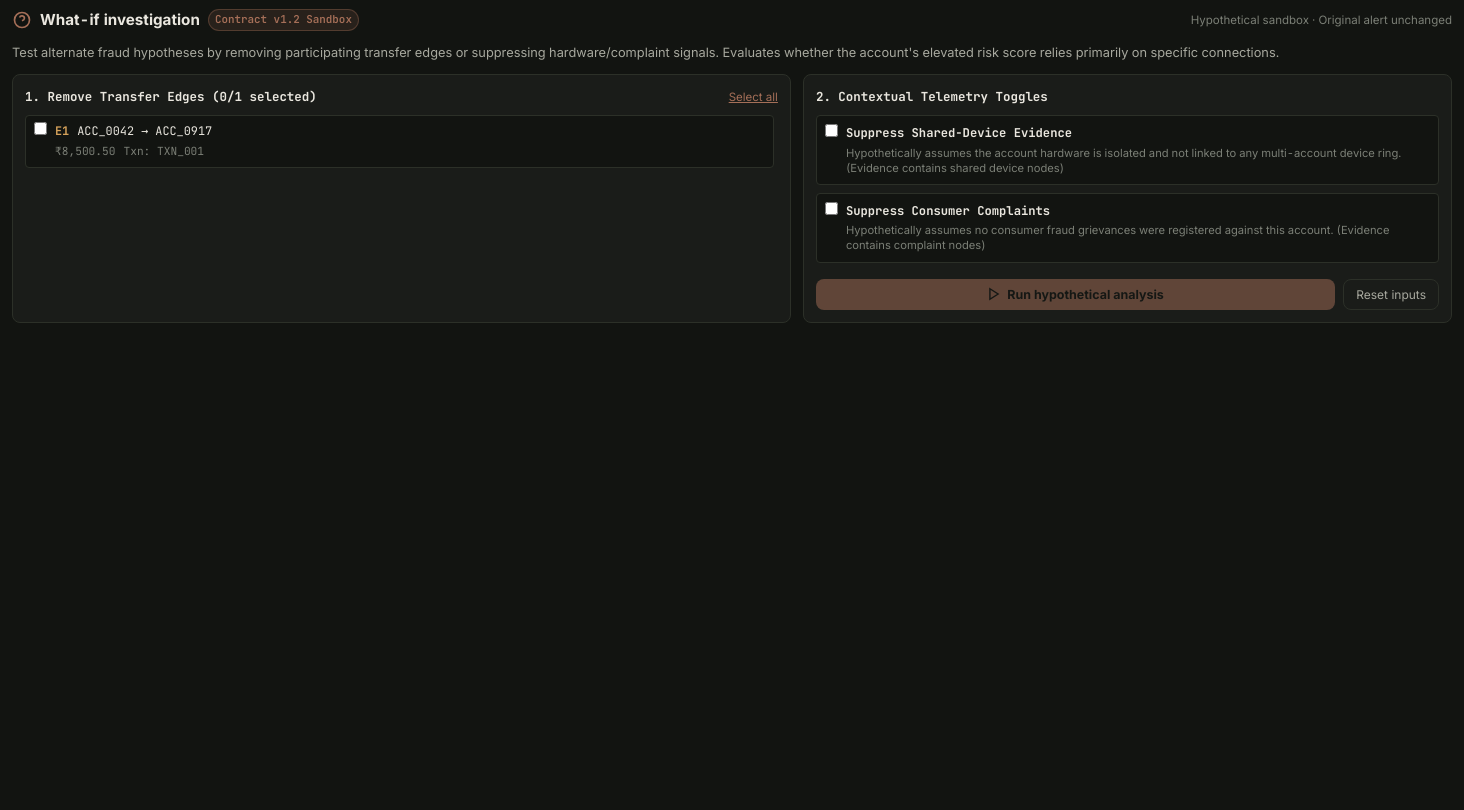
Scenario: WhatIfInvestigation Component › displays signed positive score delta when risk increases
Select complaint suppression
What coordinates should you click on to do the following:
click the checkbox with test id "toggle-suppress-complaints"
I would click on:
 (831, 208)
Its box is 825,202 -> 838,215.
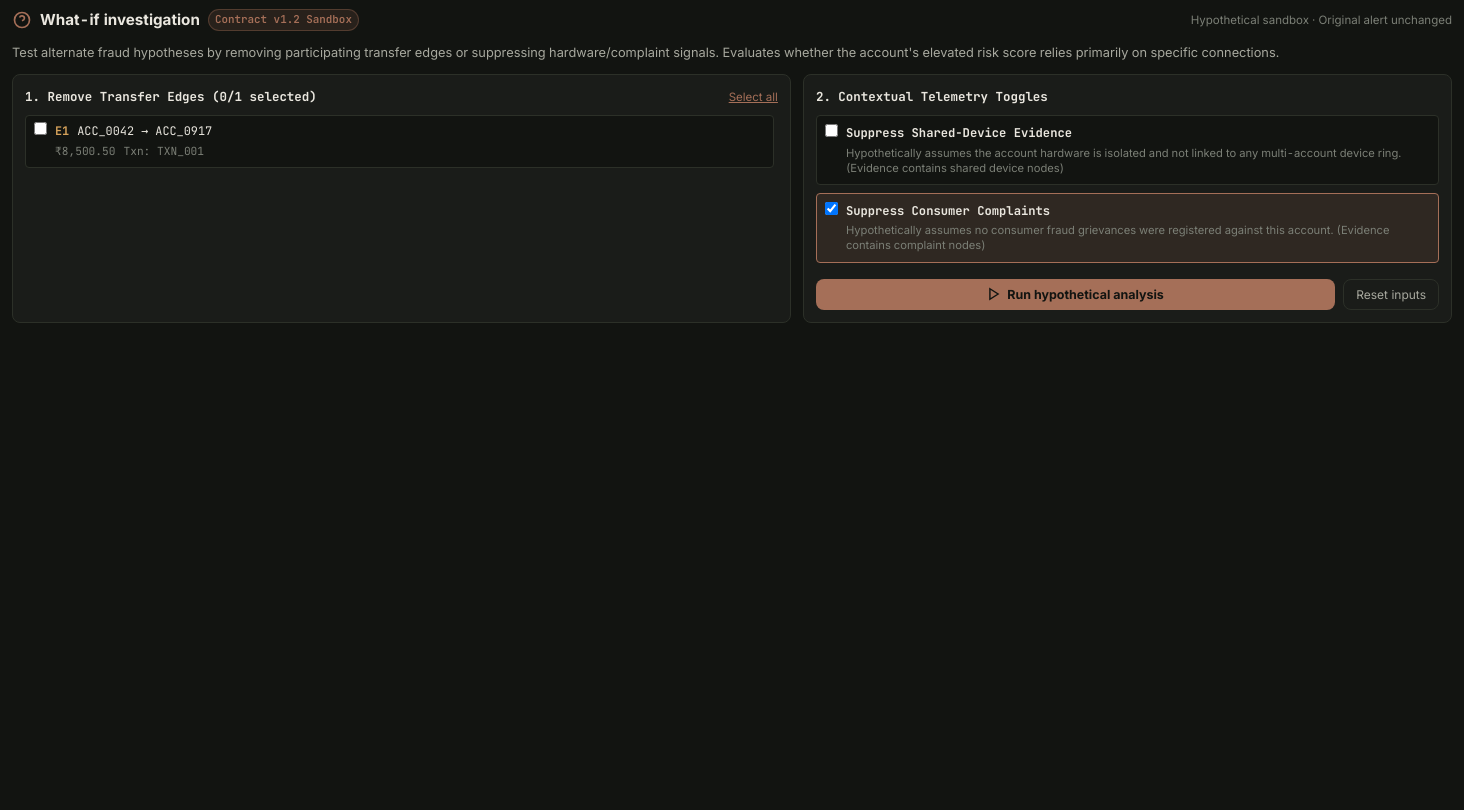
What coordinates should you click on to do the following:
click the button with test id "btn-run-whatif"
I would click on:
 (1076, 294)
Its box is 816,278 -> 1335,310.
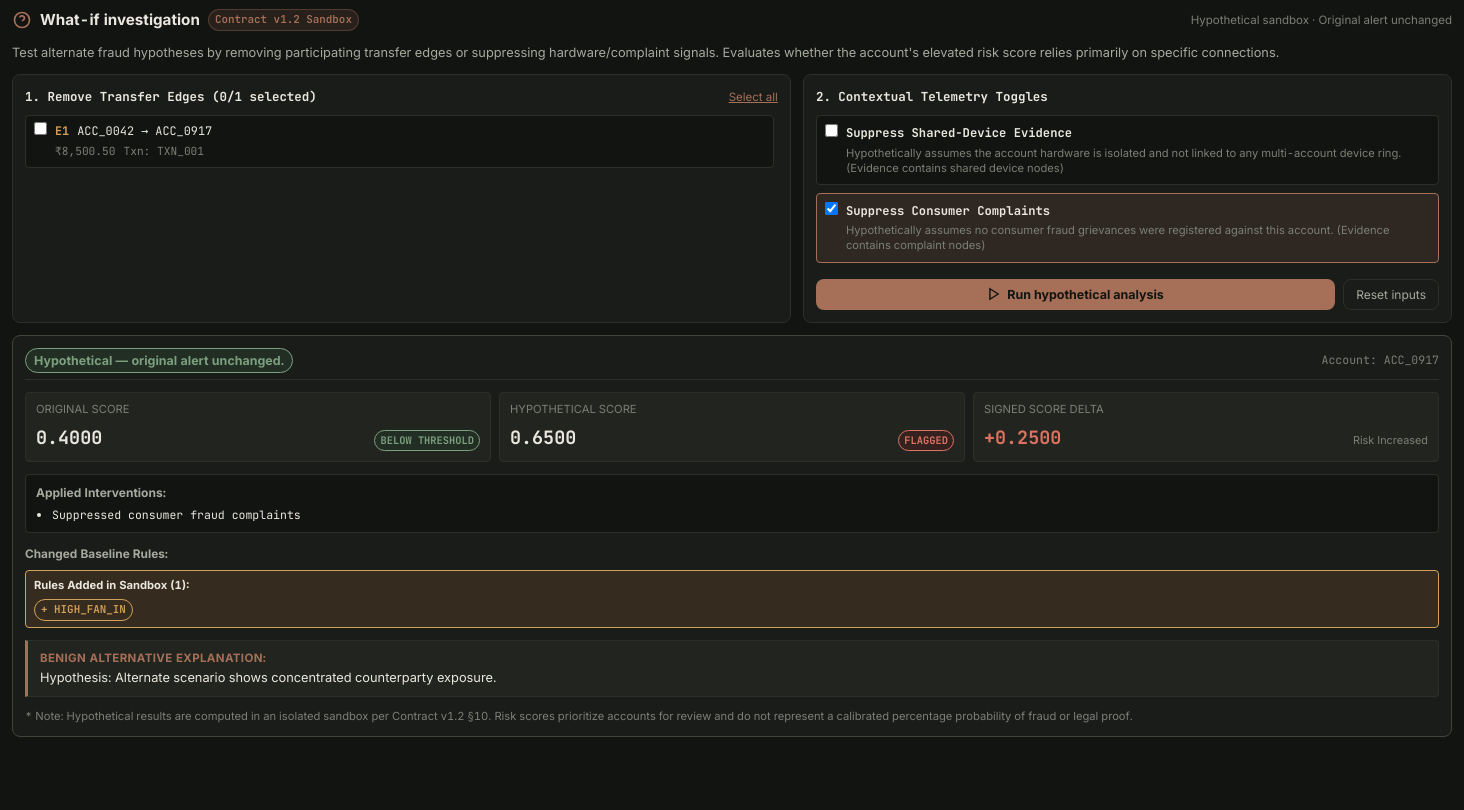
Expected: the text with test id "signed-score-delta" reads "+0.2500", 984,425 -> 1061,450
Expected: the text "Risk Increased" is shown, 1353,432 -> 1428,450
Expected: the text "+ HIGH_FAN_IN" is shown, 34,599 -> 133,621
